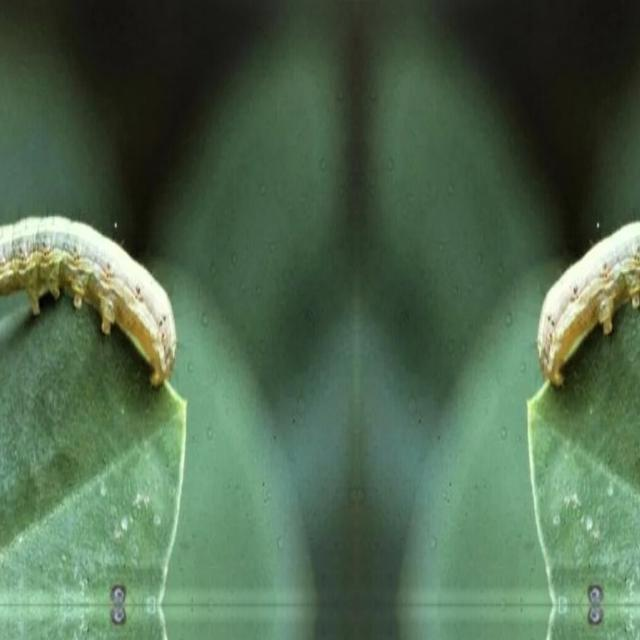armyworm: (0, 213, 177, 390), (536, 218, 638, 389)
